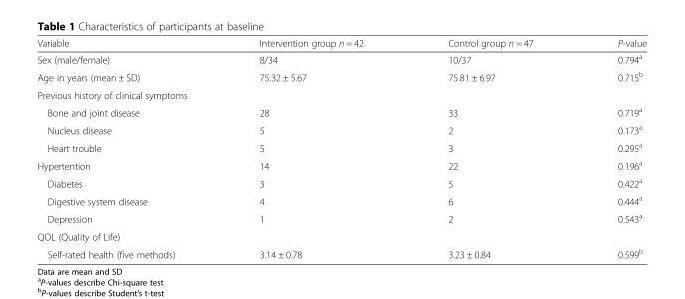table: (36, 37, 646, 259)
table column: (216, 37, 405, 259), (36, 37, 216, 259), (405, 37, 574, 259), (574, 37, 646, 259)
table column header: (36, 37, 646, 50)
table projected row header: (36, 85, 646, 102), (36, 227, 646, 244)
table row: (36, 67, 646, 85), (36, 102, 646, 120), (36, 120, 646, 138), (36, 155, 646, 173), (36, 173, 646, 191), (36, 191, 646, 209), (36, 209, 646, 227), (36, 50, 646, 67), (36, 85, 646, 102), (36, 138, 646, 155), (36, 227, 646, 244), (36, 244, 646, 259), (36, 37, 646, 50)
